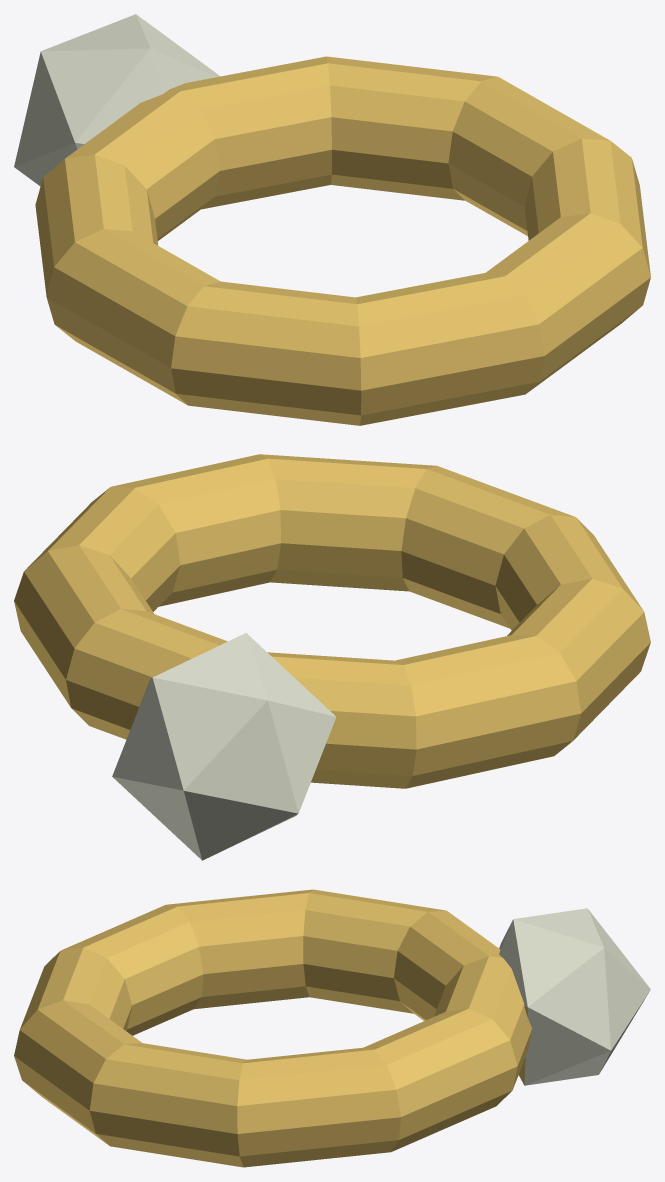
File: Ring.fbx
3 views of the same model, one above another, from view 1: azimuth 30°, elevation 25°; view 2: azimuth 150°, elevation 25°; view 3: azimuth 270°, elevation 25° (orthographic). The views are drawn at different scales.
Visible parts, largest first — view 1: Ring; view 2: Ring; view 3: Ring.
Part boxes in pixels (bbox=[...]): Ring: bbox=[14, 14, 650, 425]; Ring: bbox=[14, 454, 650, 860]; Ring: bbox=[14, 889, 650, 1167].
Bounding box in the file's own units: 9.54 × 3.15 × 11.47.
